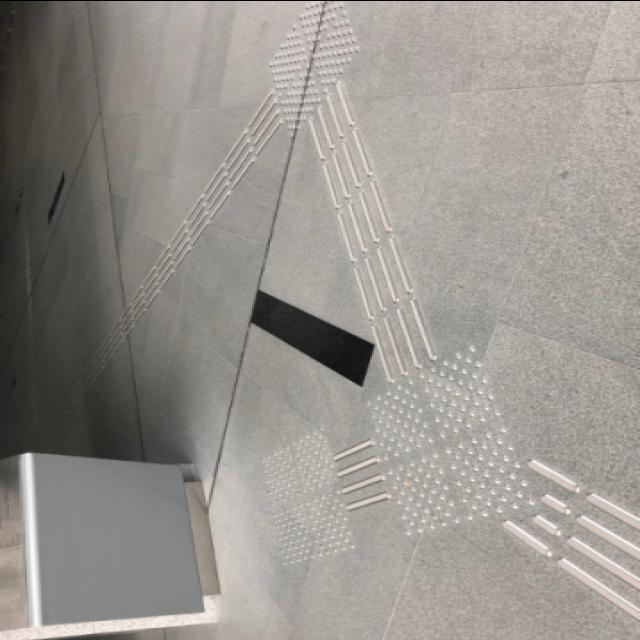tactile-guide-path: (78, 86, 284, 390), (308, 79, 440, 383), (364, 347, 534, 535), (504, 459, 638, 625), (262, 429, 358, 565), (268, 1, 362, 139), (334, 438, 390, 510)
